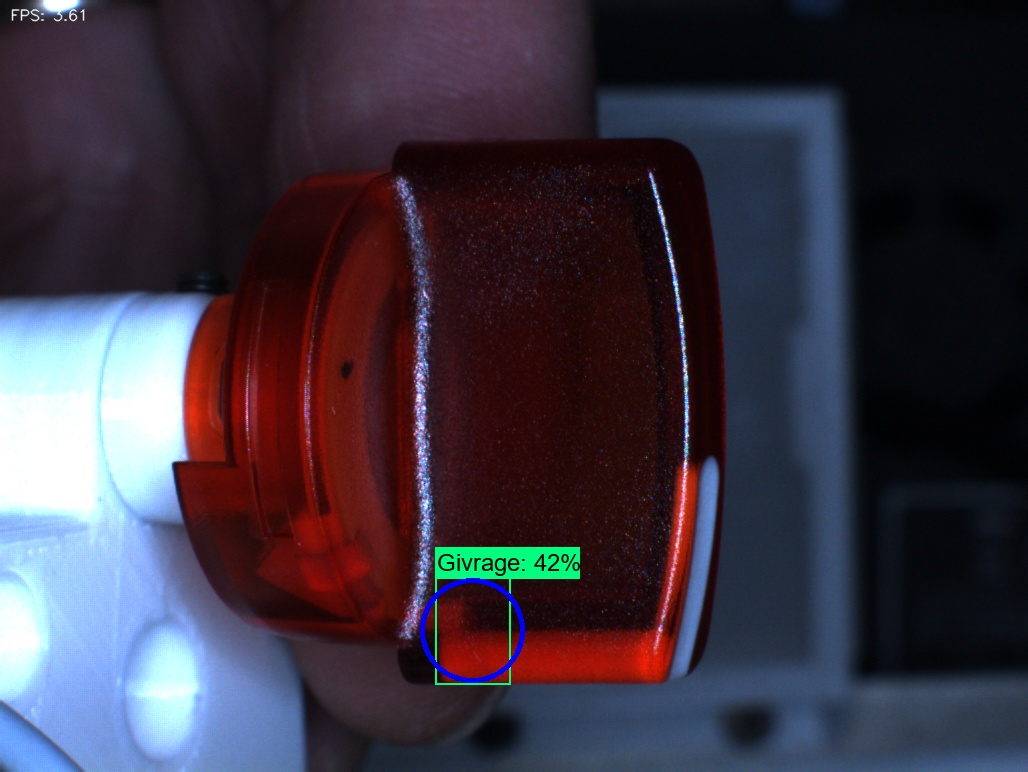PointNoir: (302, 319, 394, 418)
